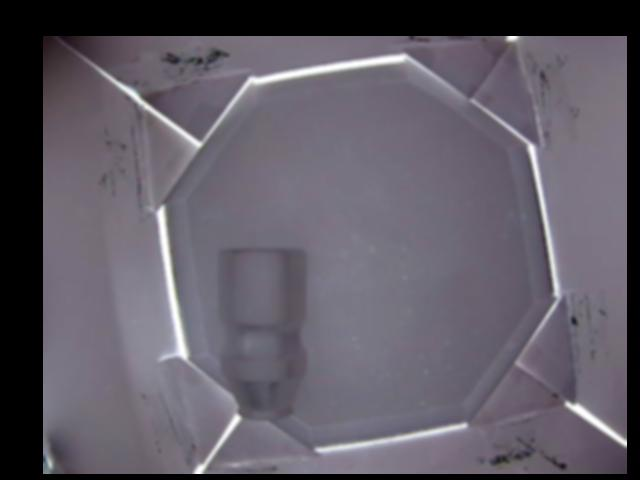Bottle: (216, 245, 309, 418)
